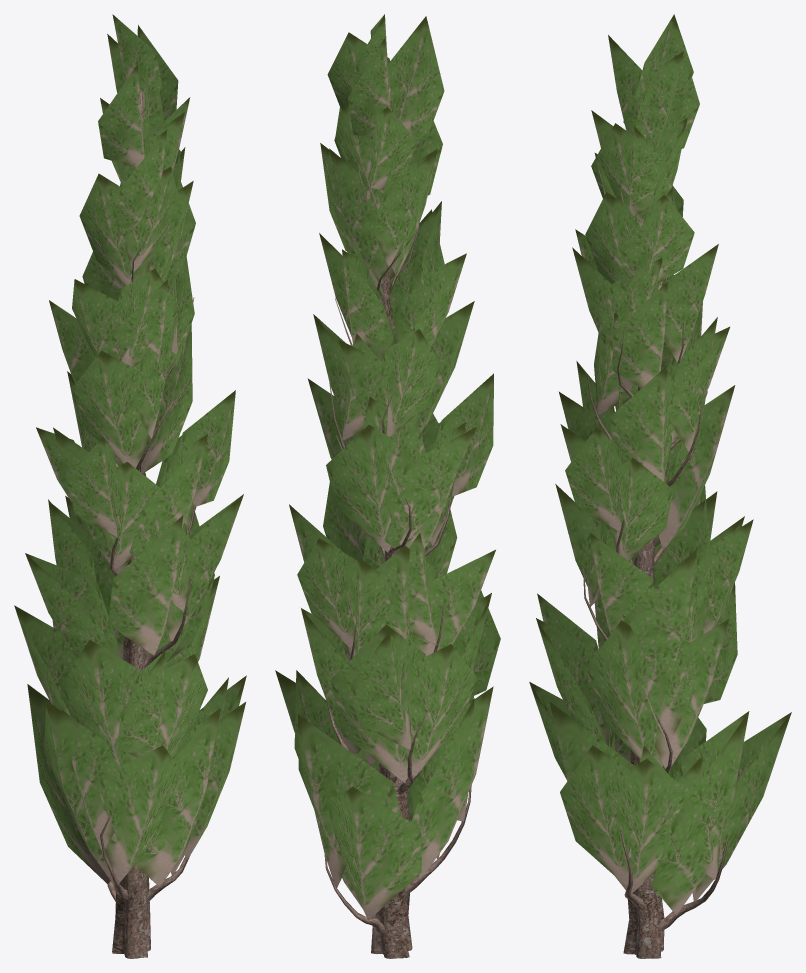
The model's file is juniper.glb.
3 renders of one model, left to right at view 1: azimuth 30°, elevation 25°; view 2: azimuth 150°, elevation 25°; view 3: azimuth 270°, elevation 25°, orthographic. The views are drawn at different scales.
Parts seen in each view (by area): view 1: Tree_1_Tree_1Mat_0, Tree_0_Tree_0Mat_0; view 2: Tree_1_Tree_1Mat_0, Tree_0_Tree_0Mat_0; view 3: Tree_1_Tree_1Mat_0, Tree_0_Tree_0Mat_0.
Part boxes in pixels (x1,y1,x2,y2): Tree_1_Tree_1Mat_0: (14,14,246,886); Tree_0_Tree_0Mat_0: (58,90,195,958); Tree_1_Tree_1Mat_0: (275,14,500,919); Tree_0_Tree_0Mat_0: (324,84,471,958); Tree_1_Tree_1Mat_0: (529,14,791,914); Tree_0_Tree_0Mat_0: (583,94,727,958).
Bounding box in the file's own units: 1.07 × 4.32 × 1.1.
Materials: 2 (2 with a texture image).
